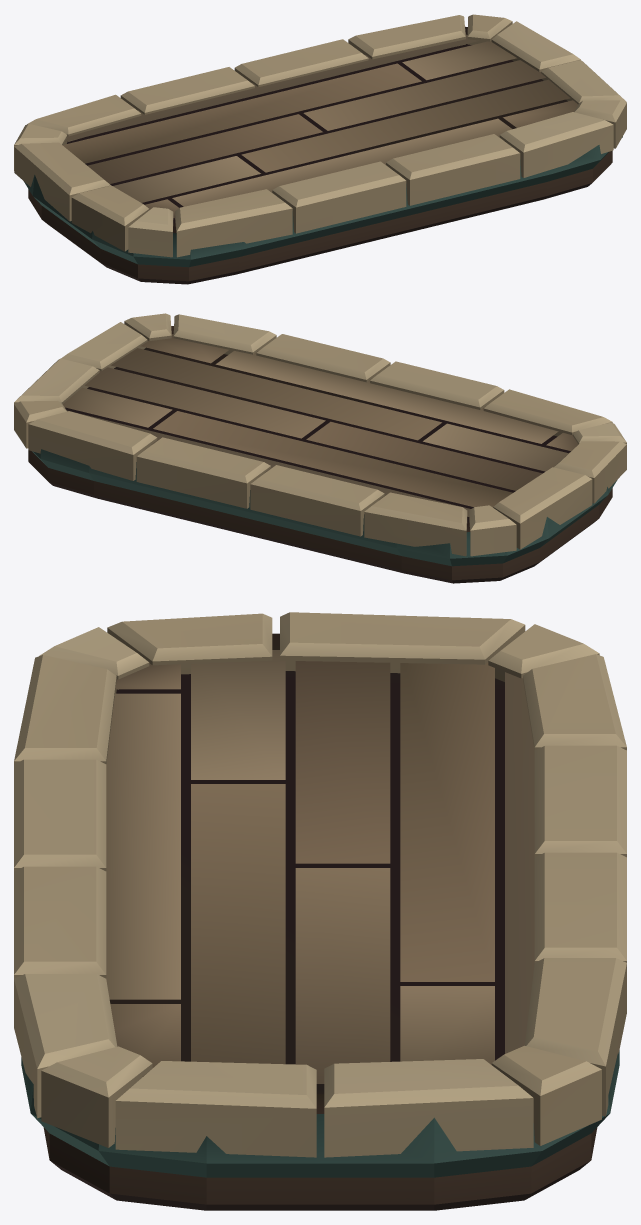
File: radeau_M.glb
The picture shows the model from 3 angles, top to bottom: view 1: azimuth 30°, elevation 25°; view 2: azimuth 150°, elevation 25°; view 3: azimuth 270°, elevation 25°; orthographic projection. The views are drawn at different scales.
Parts seen in each view (by area): view 1: radeau_M; view 2: radeau_M; view 3: radeau_M.
Boxes of the visible parts, box(x1,y1,x2,y2) form: radeau_M: box(14, 14, 626, 284); radeau_M: box(14, 313, 626, 583); radeau_M: box(14, 612, 626, 1210).
Size of the model in its own units: 4.66 by 0.7833 by 2.46.
